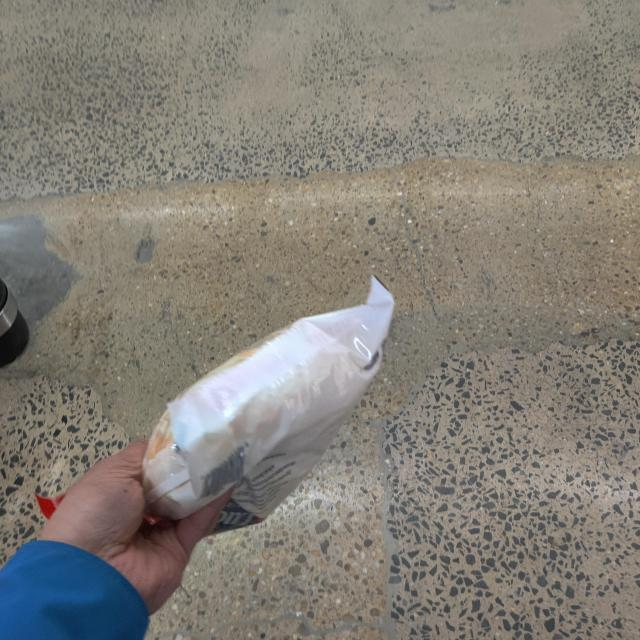Cheese: (144, 284, 410, 537)
